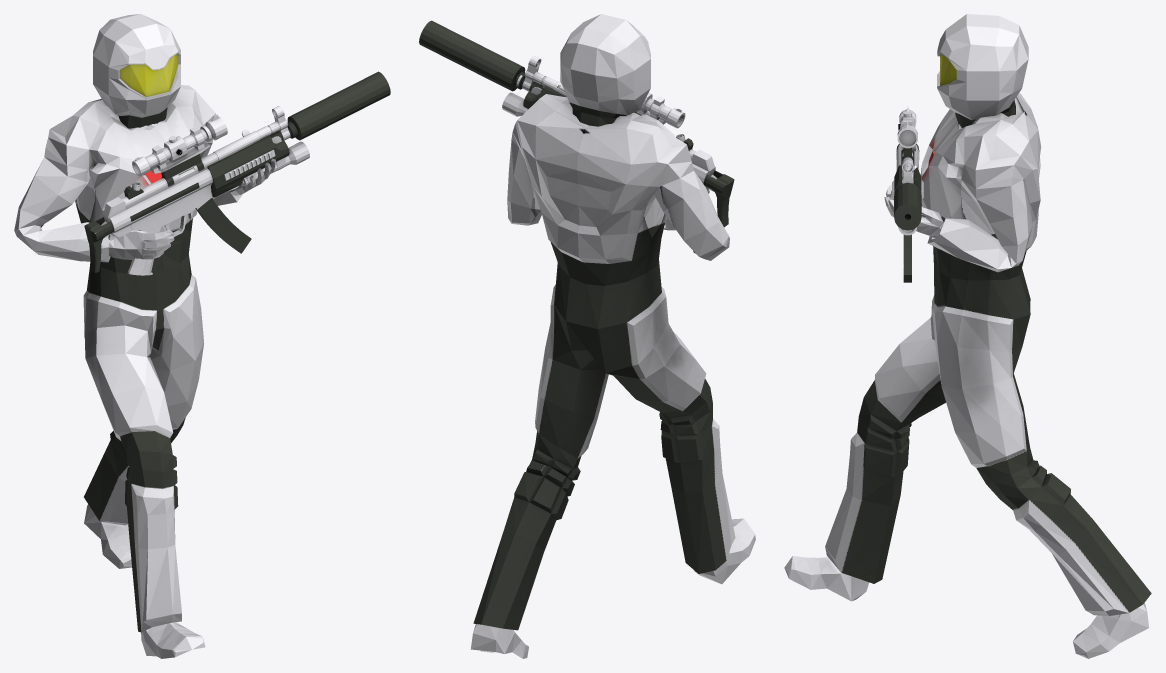
Rendered from walk3.obj.
The picture shows the model from 3 angles, left to right: view 1: azimuth 30°, elevation 25°; view 2: azimuth 150°, elevation 25°; view 3: azimuth 270°, elevation 25°; orthographic projection. The views are drawn at different scales.
Parts seen in each view (by area): view 1: Male001Skin_001, Object001; view 2: Male001Skin_001, Object001; view 3: Male001Skin_001, Object001.
Part boxes in pixels (<box>): Male001Skin_001: <box>14,14,276,658</box>; Object001: <box>84,71,390,275</box>; Male001Skin_001: <box>470,14,755,658</box>; Object001: <box>419,20,734,230</box>; Male001Skin_001: <box>784,14,1151,658</box>; Object001: <box>892,106,923,282</box>.
Bounding box in the file's own units: 1111 × 1885 × 1028.
Materials: 1 (1 with a texture image).
